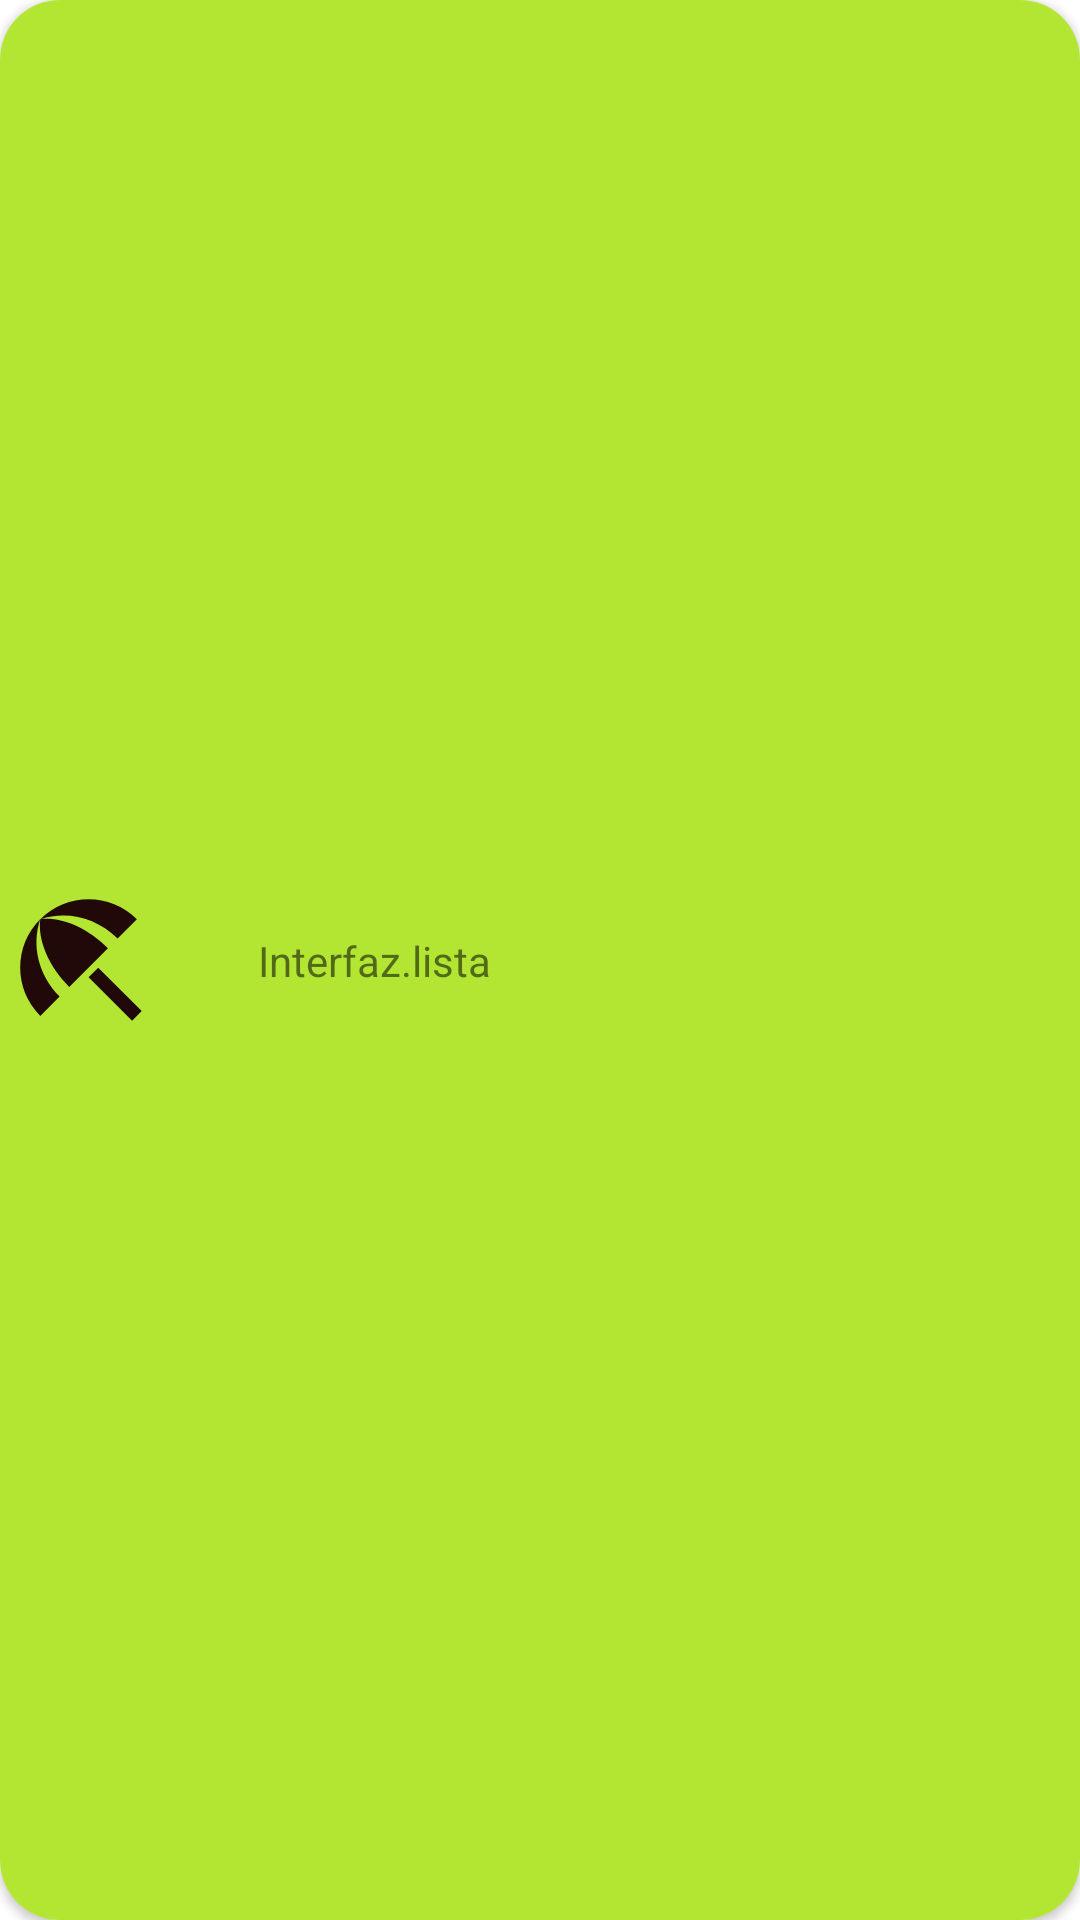

Icon click points for this 1080w x 1920h phone screenshot, format point (x, y):
beach access: point (81, 960)
